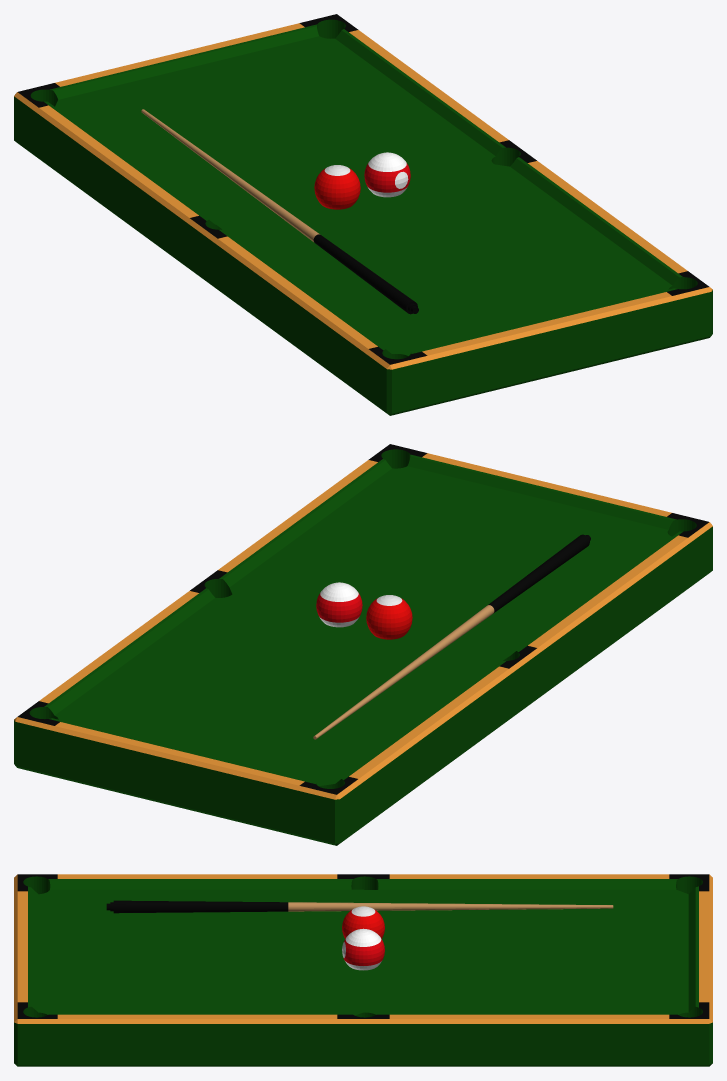
Rendered from PoolSet.fbx.
3 renders of one model, top to bottom at view 1: azimuth 30°, elevation 25°; view 2: azimuth 150°, elevation 25°; view 3: azimuth 270°, elevation 25°, orthographic. The views are drawn at different scales.
Parts seen in each view (by area): view 1: PoolItself, PoolStick, Ball1, Ball2; view 2: PoolItself, PoolStick, Ball1, Ball2; view 3: PoolItself, PoolStick, Ball2, Ball1.
Boxes of the visible parts, x1,y1,x2,y2 form: PoolItself: [14, 14, 712, 415]; PoolStick: [141, 109, 418, 314]; Ball1: [314, 165, 360, 209]; Ball2: [364, 152, 410, 197]; PoolItself: [14, 444, 712, 845]; PoolStick: [313, 534, 590, 739]; Ball1: [366, 595, 412, 639]; Ball2: [316, 582, 362, 627]; PoolItself: [14, 874, 712, 1066]; PoolStick: [106, 900, 613, 913]; Ball2: [342, 928, 384, 970]; Ball1: [342, 906, 384, 938].
Size of what is drawn, in the model's own units: 4 by 8 by 0.9383.
